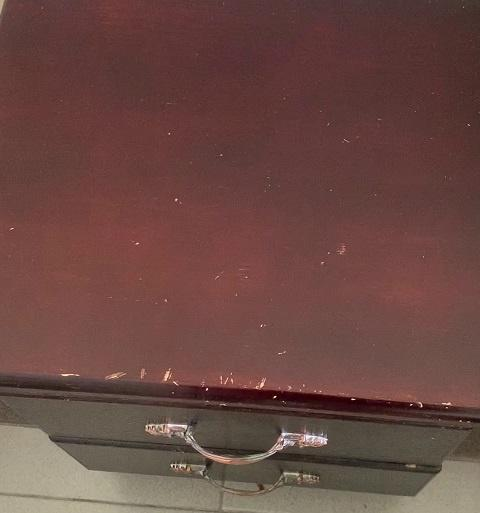cabinet_door: (31, 391, 467, 453), (83, 455, 440, 486)
handle: (142, 416, 334, 468), (168, 461, 323, 498)
